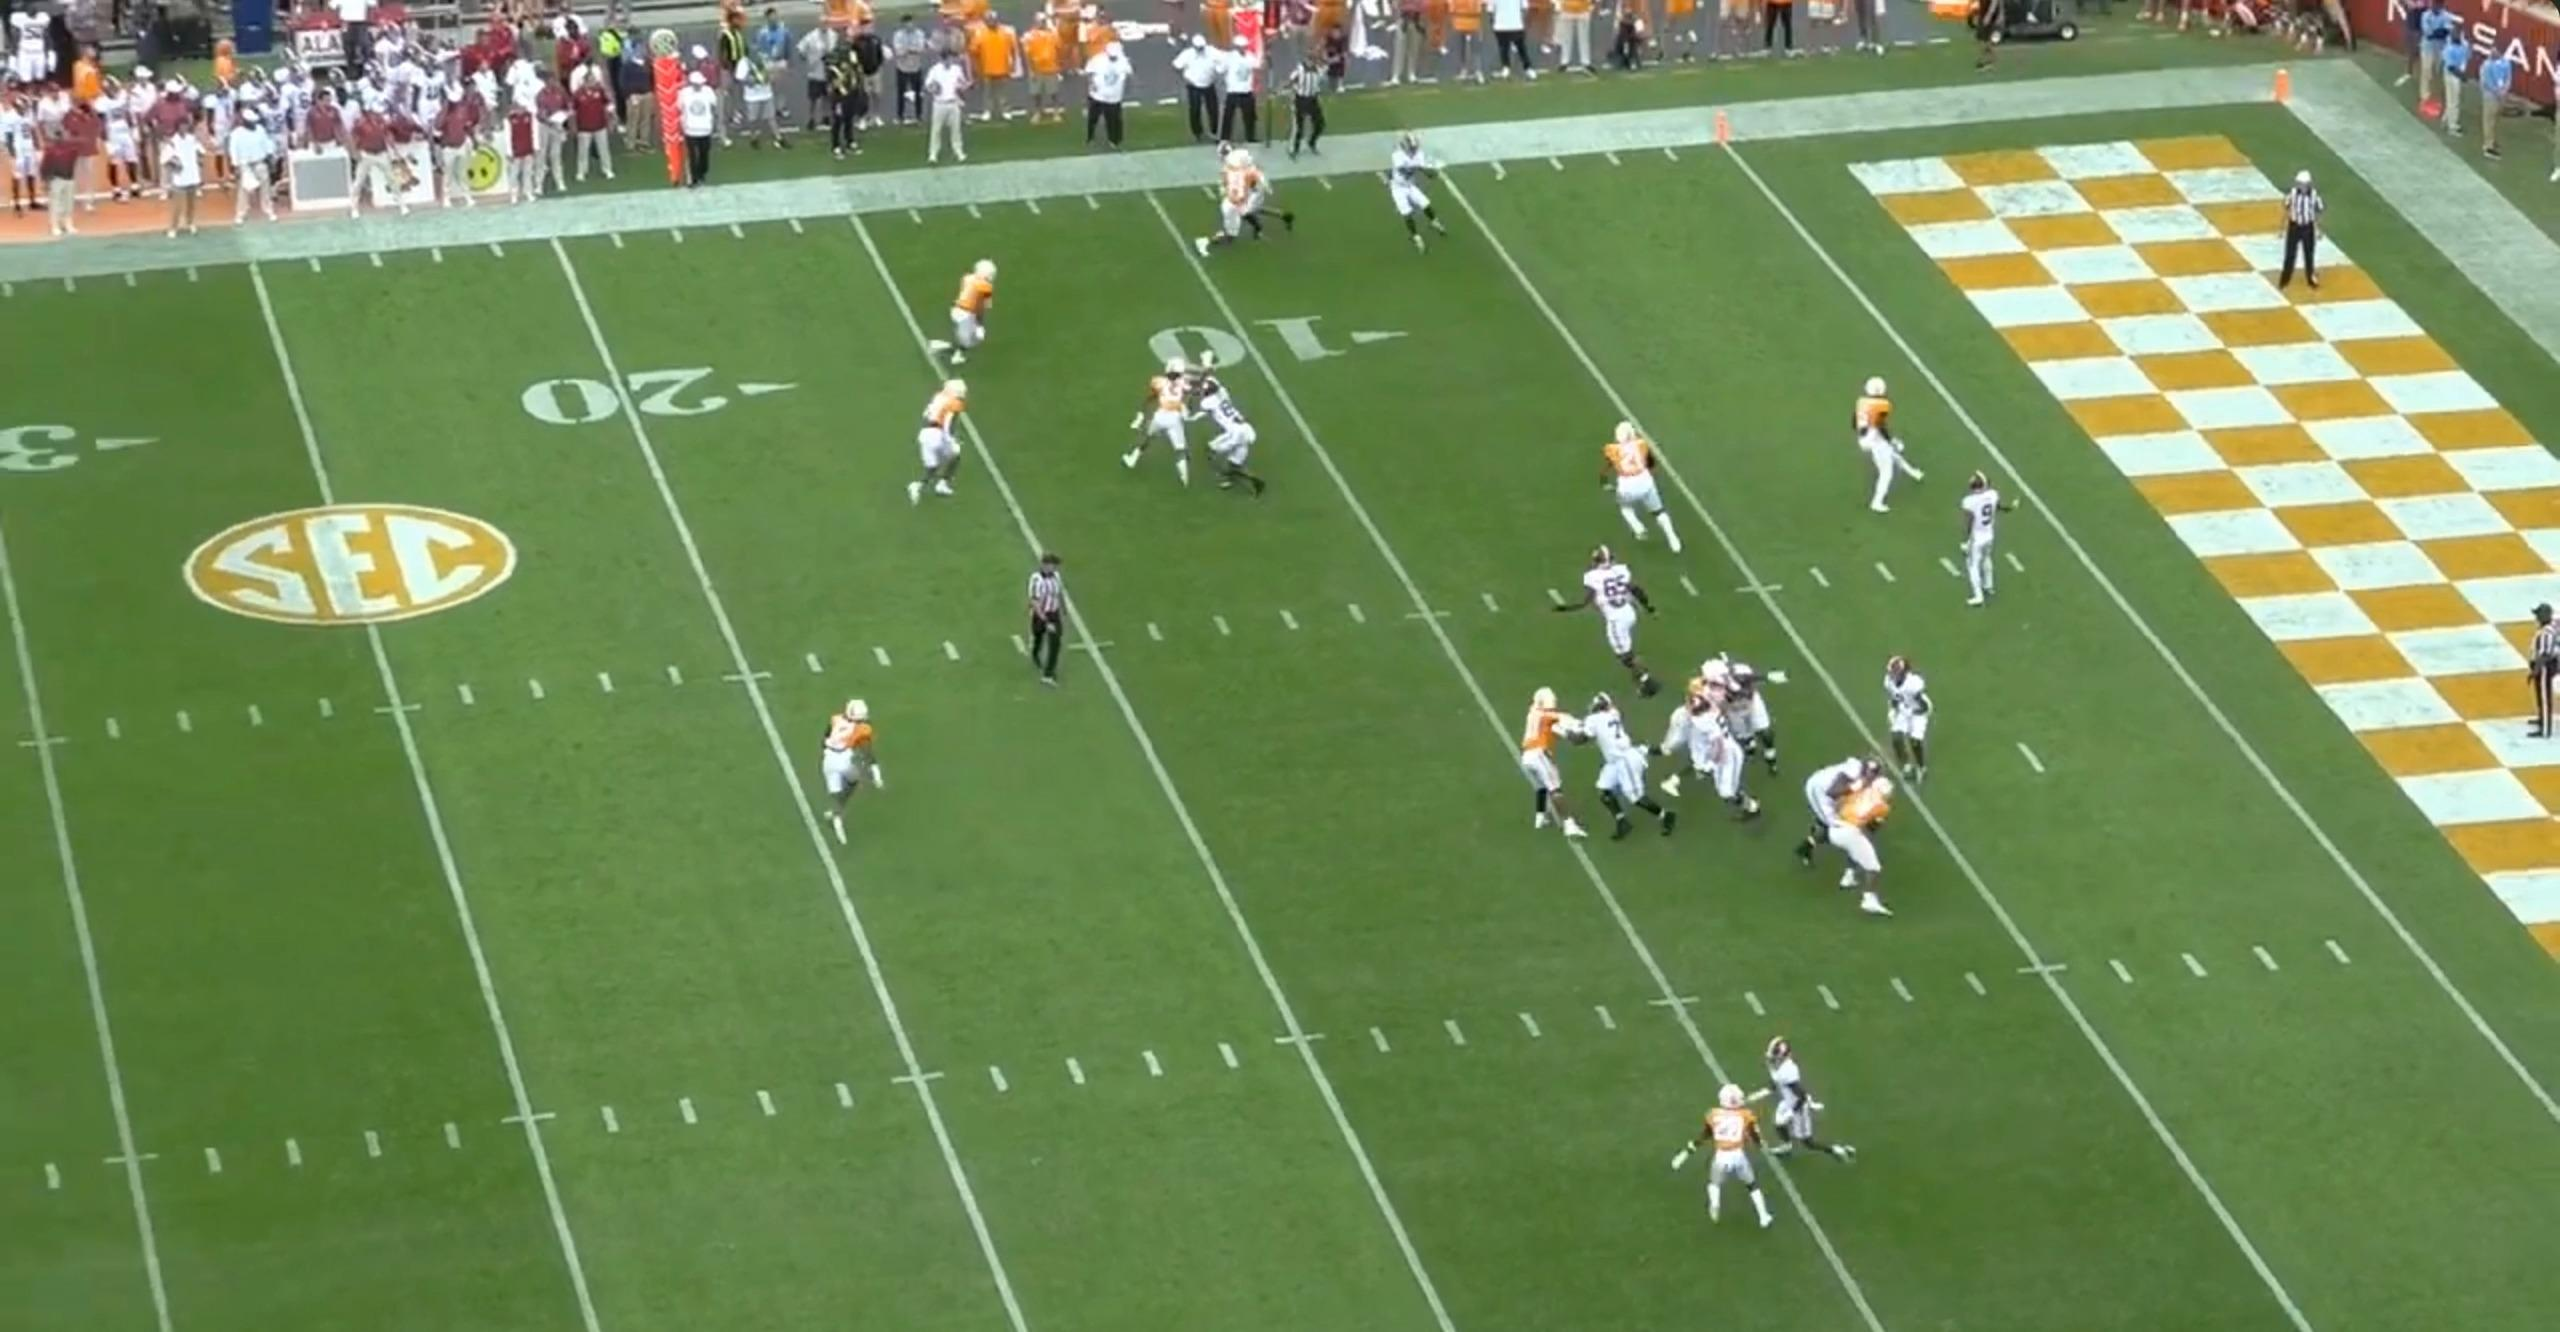defense: (1680, 1080, 1787, 1239), (1511, 679, 1599, 841), (1596, 412, 1689, 553), (1648, 653, 1737, 798), (1853, 371, 1934, 519), (818, 693, 894, 848), (1114, 356, 1200, 491), (1831, 763, 1903, 919), (1184, 141, 1275, 261), (920, 253, 1003, 373), (915, 381, 985, 520)
oline: (1556, 687, 1678, 848), (1576, 540, 1665, 690), (1675, 703, 1768, 826), (1706, 652, 1788, 782), (1785, 748, 1871, 867)
qb: (1945, 471, 2004, 620)
ref: (1012, 552, 1073, 702), (2278, 168, 2334, 296), (1277, 50, 1330, 158), (2530, 602, 2560, 747)
skill: (1754, 1037, 1857, 1179), (1193, 374, 1272, 501), (1210, 137, 1300, 246), (1375, 138, 1453, 262), (1873, 655, 1935, 794)
